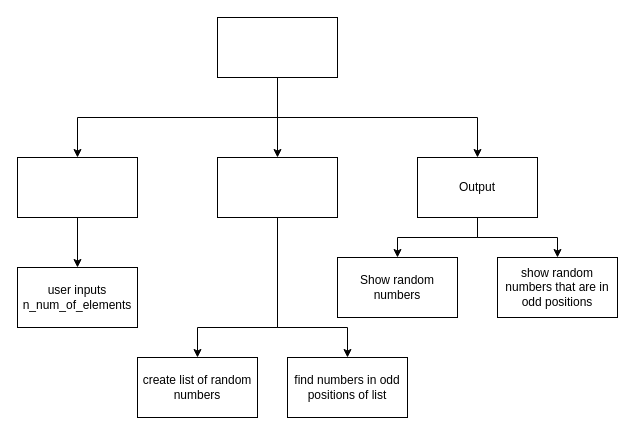
Image size: 635x435. Some labels were removed from this diagram. Here are the shapes that lost their labels. From the top down, the centre of each, then its label:
At point (277, 47): "odd_positions.py".
At point (77, 187): "Input".
At point (277, 187): "Process".
